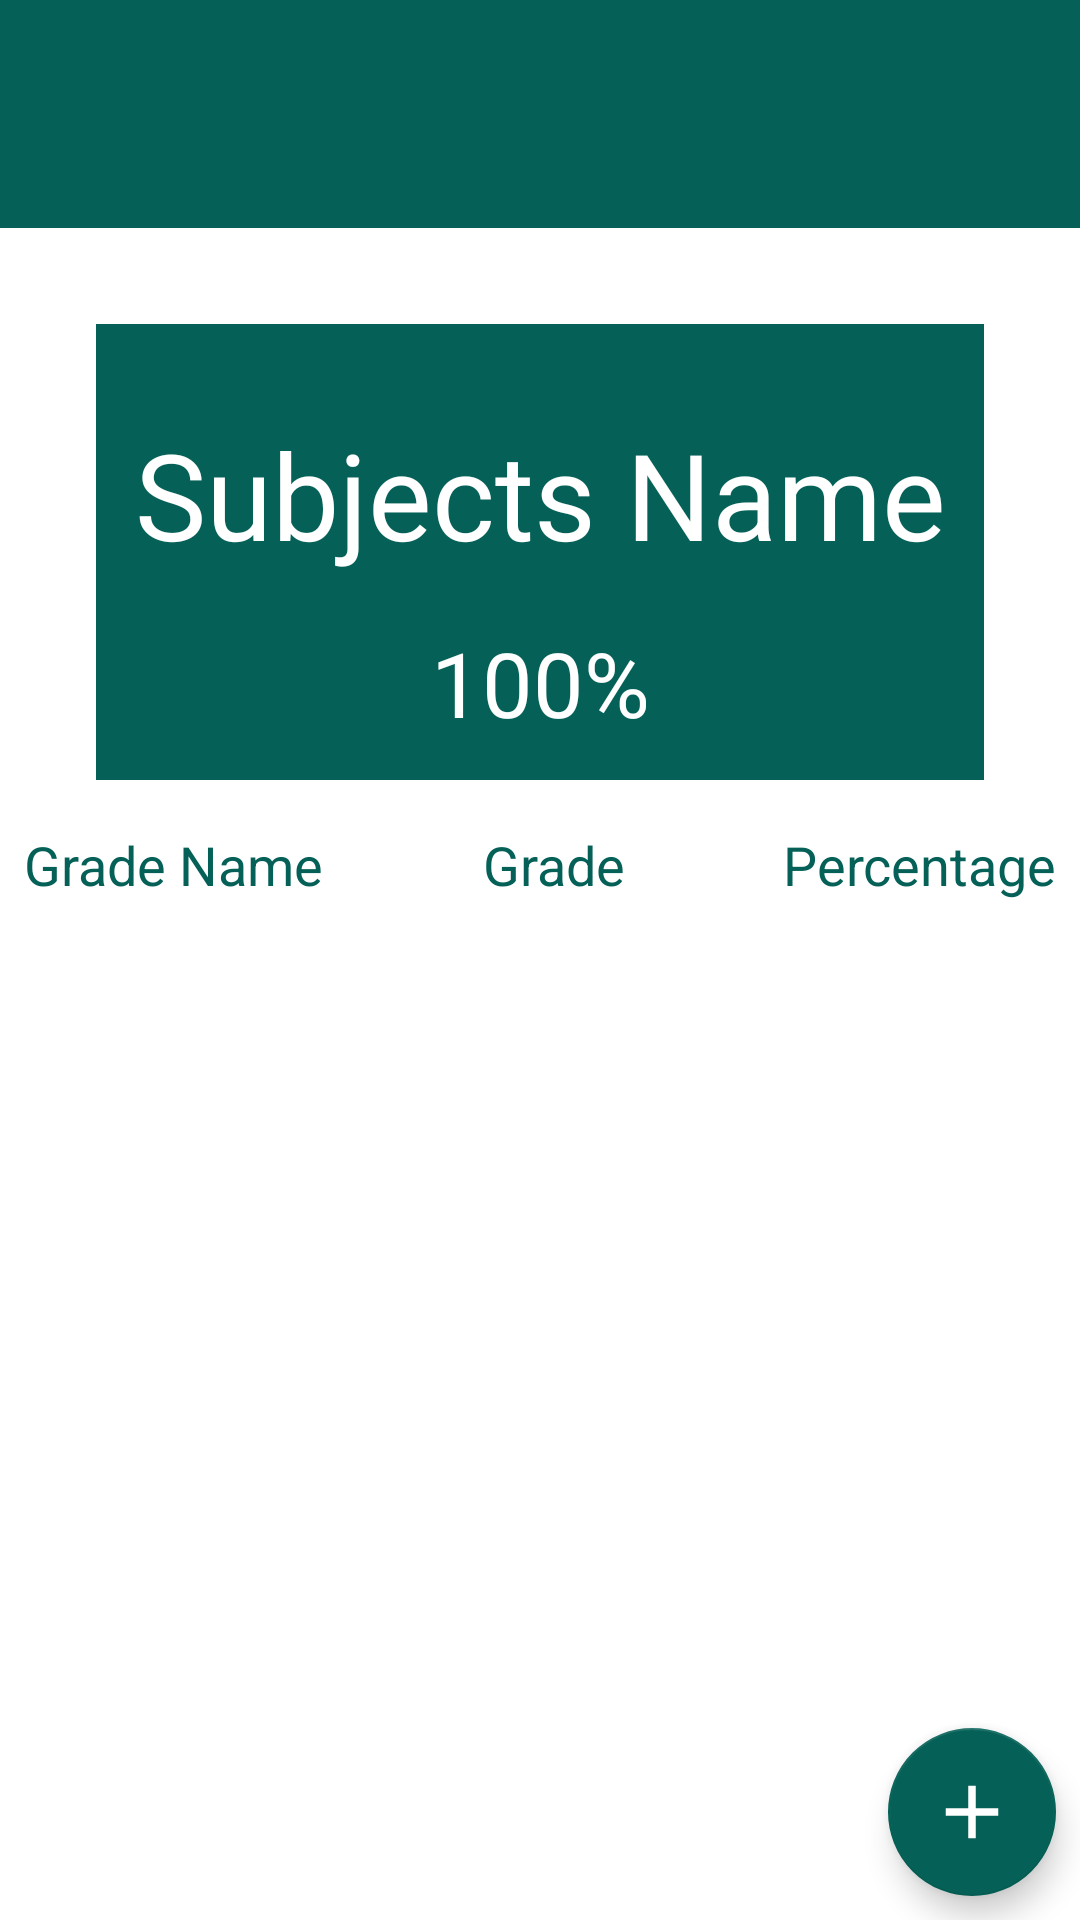

Screen size 1080x1920. Icon name, then its box in pixels as box(x1, y1, x2, y2):
A button with a + sign indicating addition of new values: box(888, 1728, 1056, 1896)
